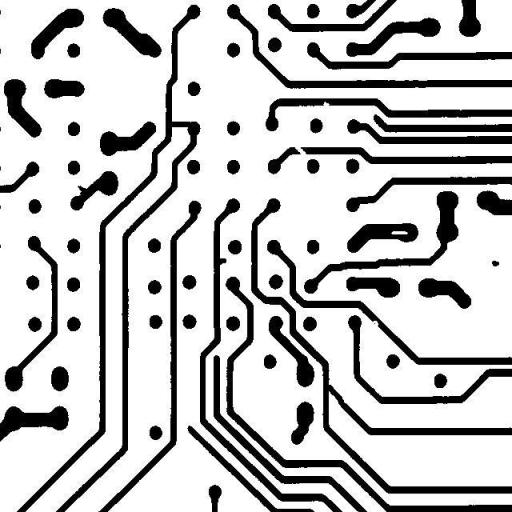copper: (484, 252, 506, 274)
mousebite: (364, 312, 386, 334), (315, 94, 337, 112)
open: (287, 138, 314, 164)
pin-hole: (383, 223, 415, 242)
short: (318, 377, 354, 415), (162, 114, 200, 134)
spur: (70, 178, 95, 202), (210, 250, 234, 273)
